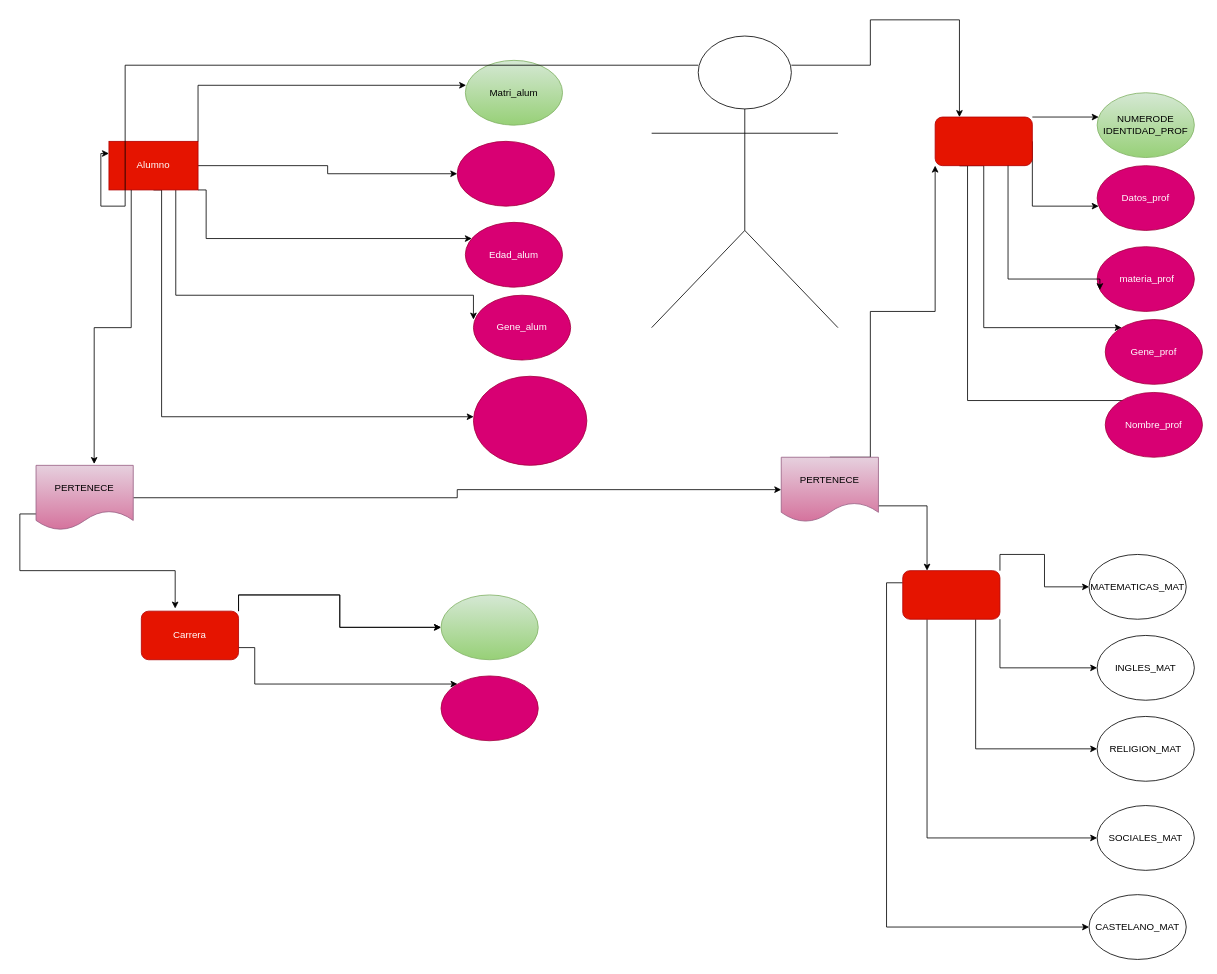
This 1217x974 diagram has some shape labels left out. The box of each missing label's shape, as (x1, y1, x2, y2) in pixels:
Actor: (651, 35, 838, 328)
COD_CRR: (440, 594, 538, 660)
MATERIA: (902, 570, 1000, 619)
nah_alum: (440, 675, 538, 741)
Nombre_alum: (456, 141, 554, 206)
Profesor: (934, 116, 1032, 166)
Sam_alum: (473, 375, 587, 465)
